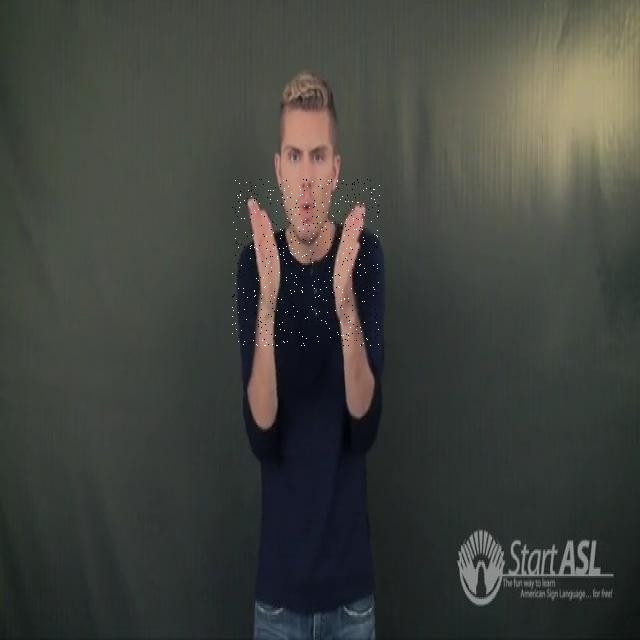small: (232, 179, 380, 346)
